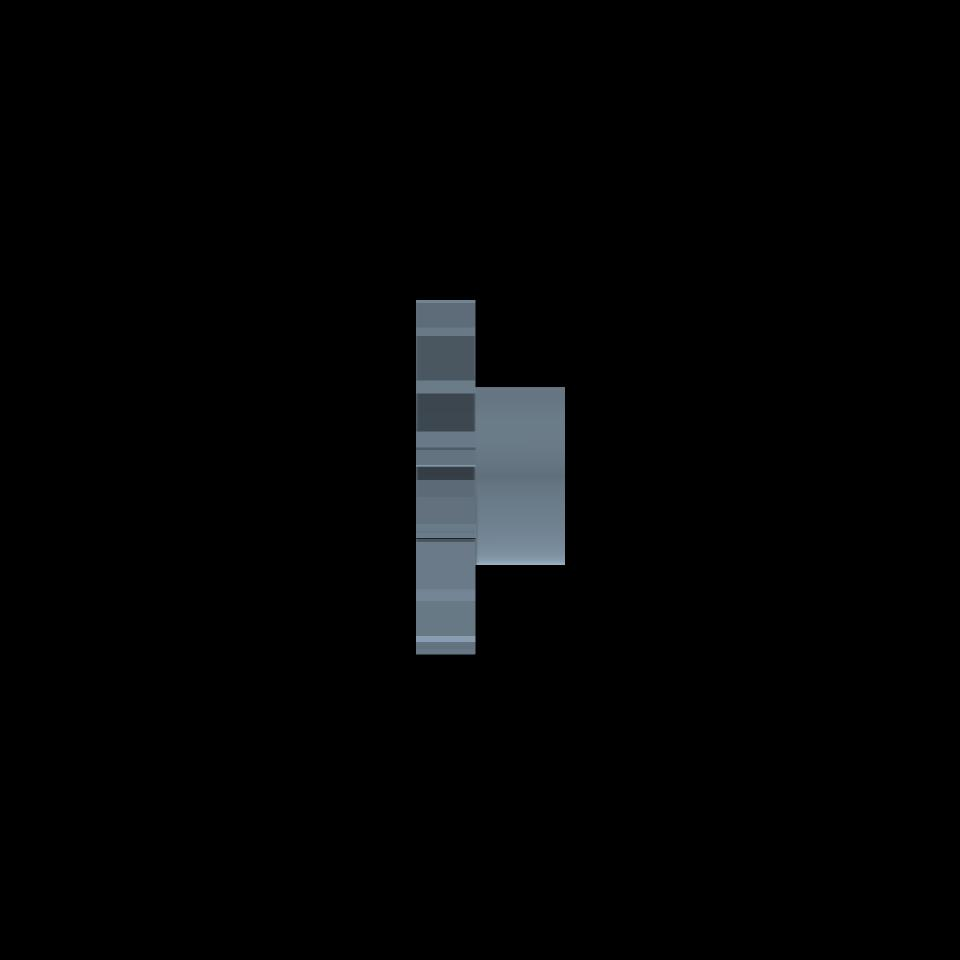Straight: (415, 300, 475, 654)
